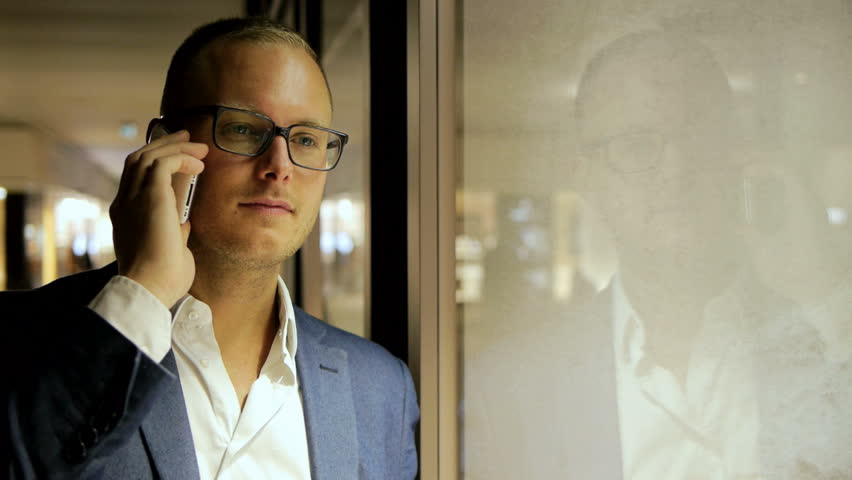phone: (154, 142, 204, 216)
talk: (107, 90, 340, 301)
